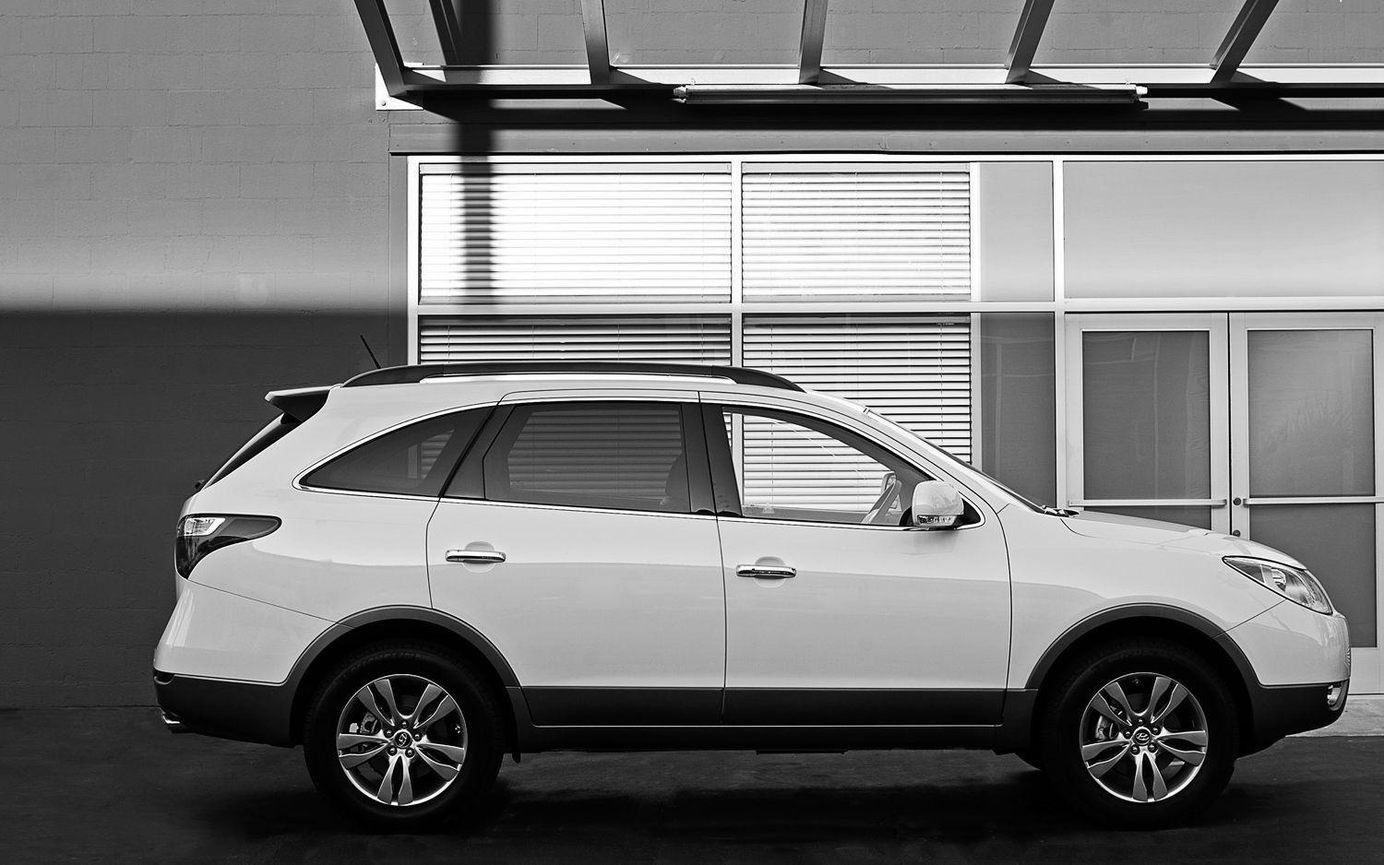car: (157, 336, 1354, 829)
